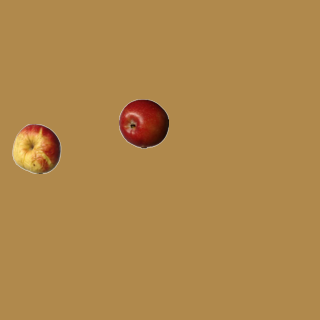Apple Braeburn: (118, 98, 168, 148)
Apple Red Yellow 1: (11, 123, 61, 173)
